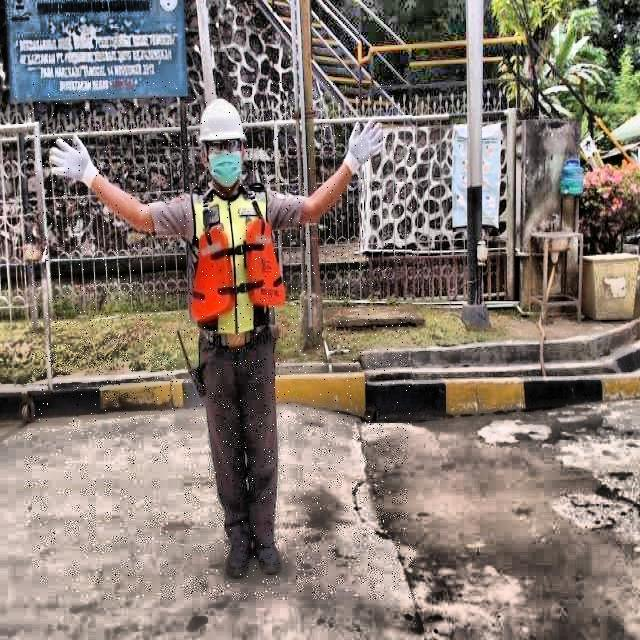safety_helmet: (201, 102, 246, 146)
safety_jacket: (188, 190, 287, 334)
